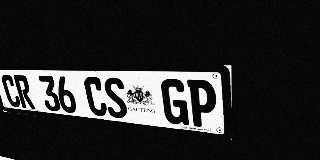3: (38, 76, 61, 112)
6: (54, 76, 78, 114)
C: (83, 77, 108, 117), (0, 75, 22, 108)
G: (160, 79, 189, 126)
P: (187, 79, 217, 129)
R: (13, 75, 35, 109)
S: (102, 77, 129, 119)
